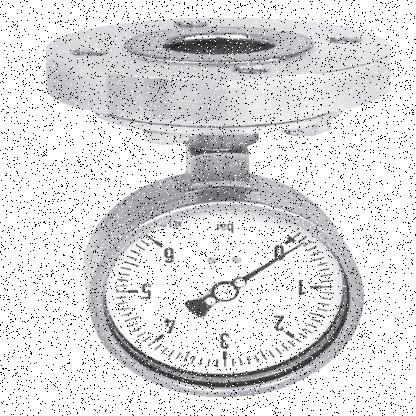needle: (242, 241, 305, 282)
